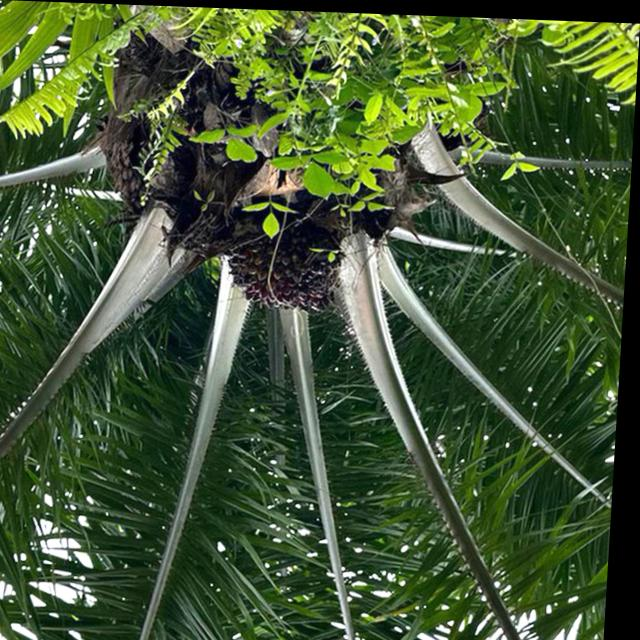ripe: (224, 218, 352, 322)
